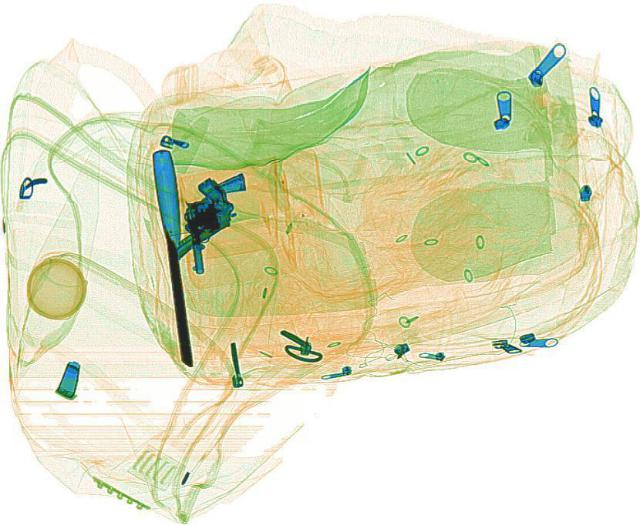Gun: (134, 174, 252, 259), (180, 171, 250, 272)
Knife: (148, 148, 198, 367)
